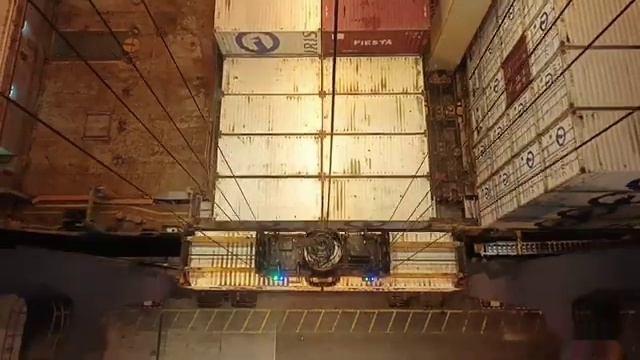container: (172, 228, 466, 294), (215, 1, 438, 56), (212, 176, 432, 229), (217, 93, 429, 135), (221, 55, 430, 97), (214, 135, 429, 174), (213, 0, 430, 23), (209, 0, 435, 17)
guide_mark: (115, 311, 549, 329), (67, 355, 561, 360)
spreader: (173, 222, 471, 294)
target_slot: (171, 216, 480, 299)
